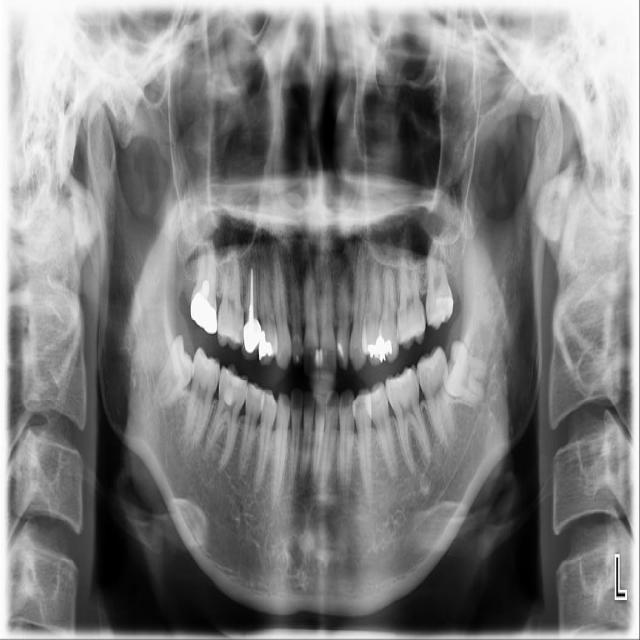52: (415, 283, 467, 333), (189, 285, 218, 336), (375, 319, 402, 363), (361, 325, 385, 366), (240, 320, 262, 362), (319, 335, 337, 381), (258, 327, 279, 366), (303, 335, 320, 380), (335, 335, 350, 369), (291, 333, 305, 365)
73: (245, 259, 260, 320), (612, 590, 618, 600)
BioHorizons Implant: (425, 215, 454, 329)
Biomet 3i Implant: (435, 339, 499, 409)
Blue Sky Bio Implant: (413, 344, 459, 452)
Caries: (188, 224, 218, 335)
Implant: (181, 345, 224, 449)
Keystone Dental Implant: (141, 334, 208, 419)
